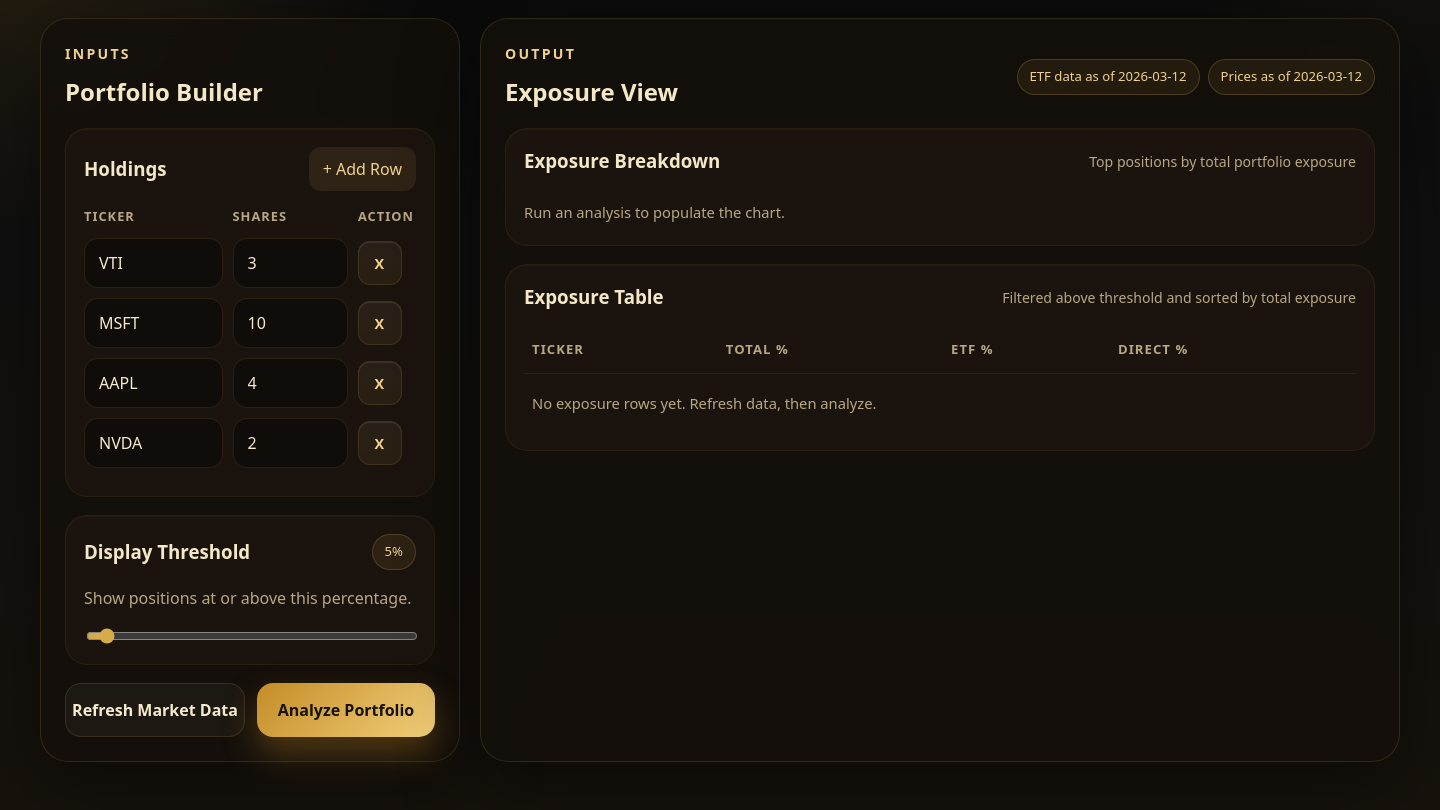
it: App › refreshes market data and shows success status
(page scrolled)
Click the button with class "secondary-button" at (155,710), box x1=65 y1=683 x2=245 y2=737
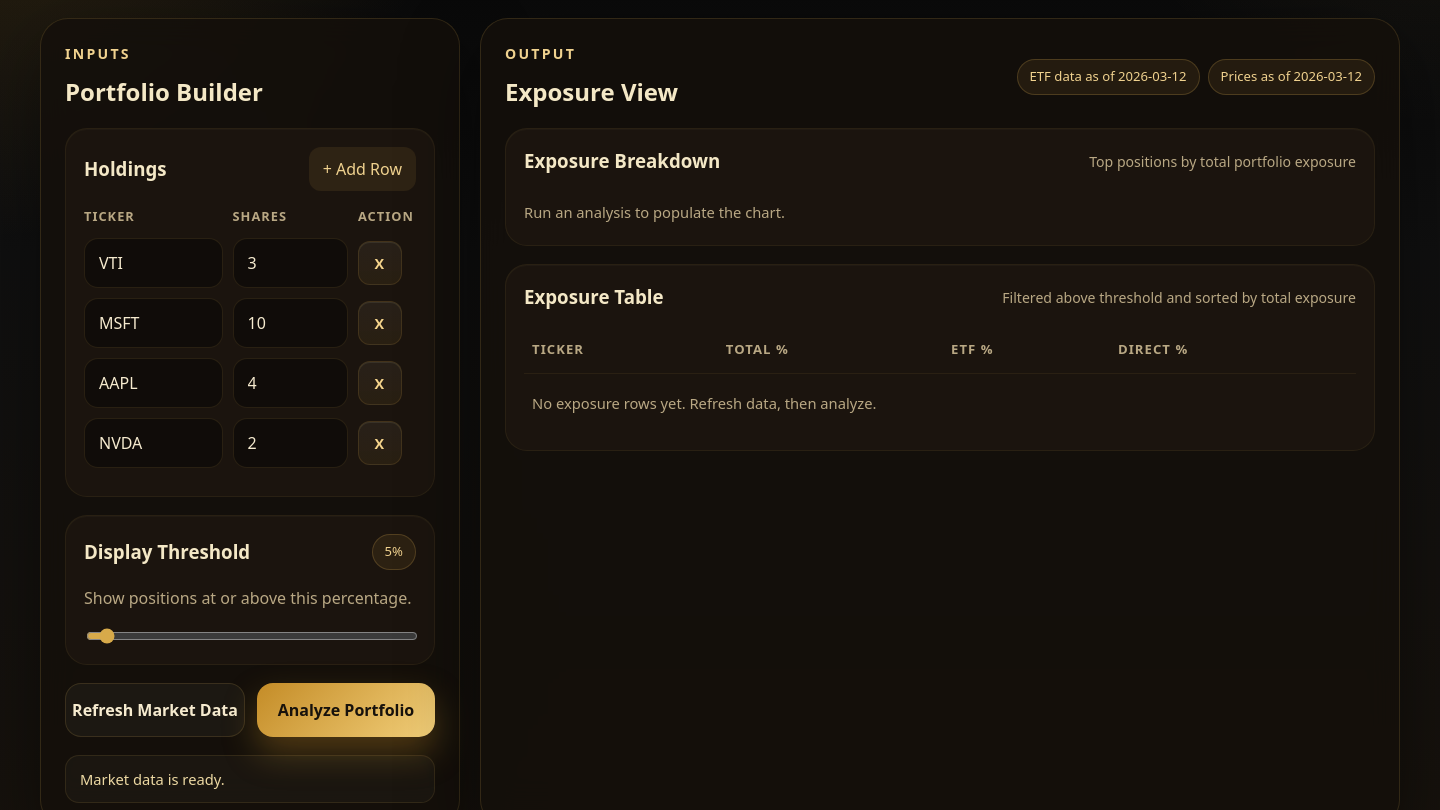
Check: the text "Market data is ready." is shown, box x1=65 y1=755 x2=435 y2=803
